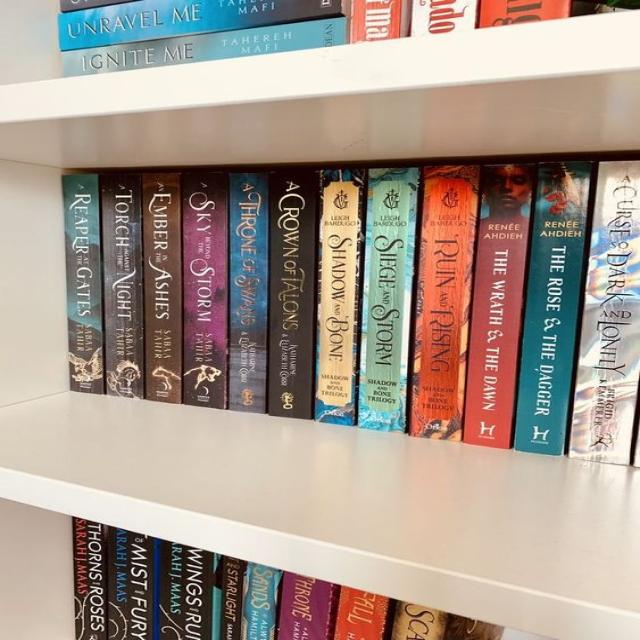book: (515, 161, 592, 455), (568, 159, 640, 465), (462, 164, 535, 449), (408, 164, 477, 441), (61, 16, 345, 77), (358, 169, 419, 432), (56, 1, 340, 51), (315, 169, 367, 427), (268, 170, 315, 419), (180, 173, 227, 410), (61, 174, 105, 394), (99, 174, 142, 398), (141, 173, 181, 403), (230, 172, 268, 414)
